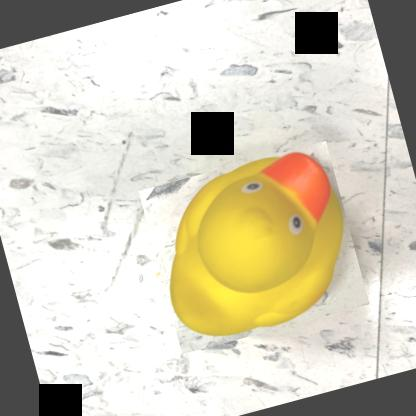duck: (139, 140, 370, 354)
